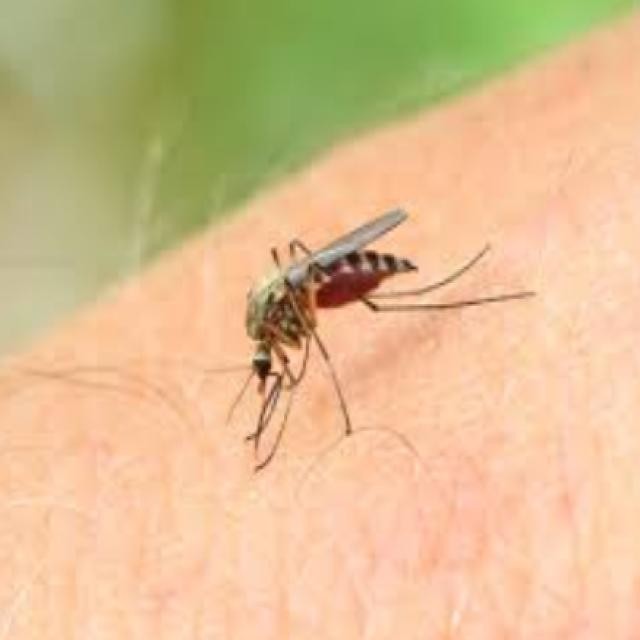Mosquito: (227, 238, 458, 475)
